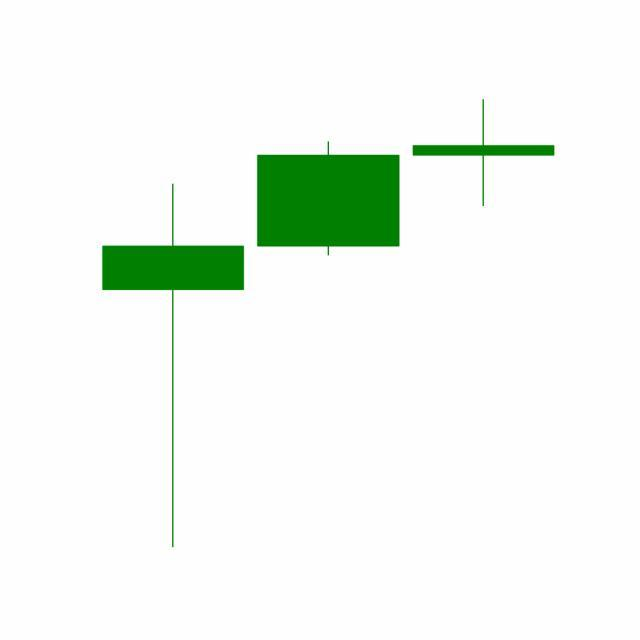Spinning Top: (406, 99, 562, 209)
